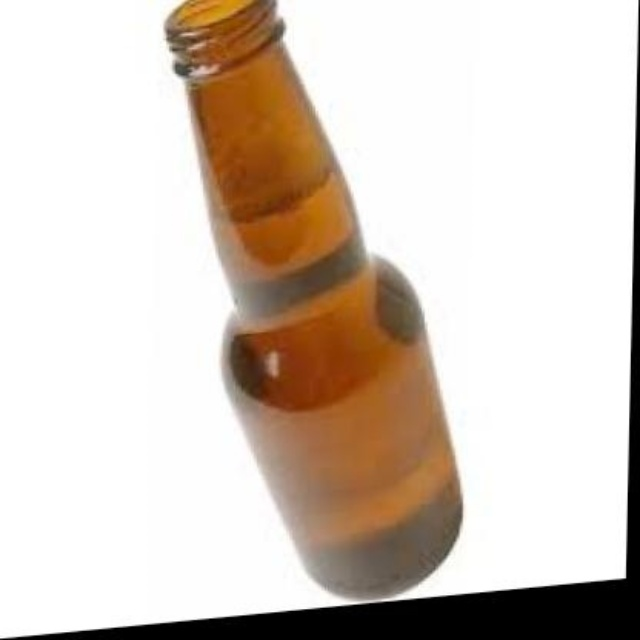trash: (165, 0, 462, 597)
